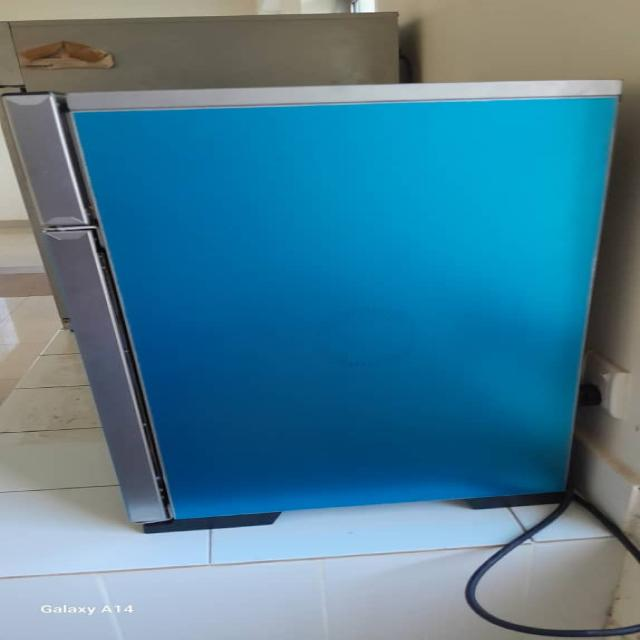Incubator: (11, 95, 618, 516)
